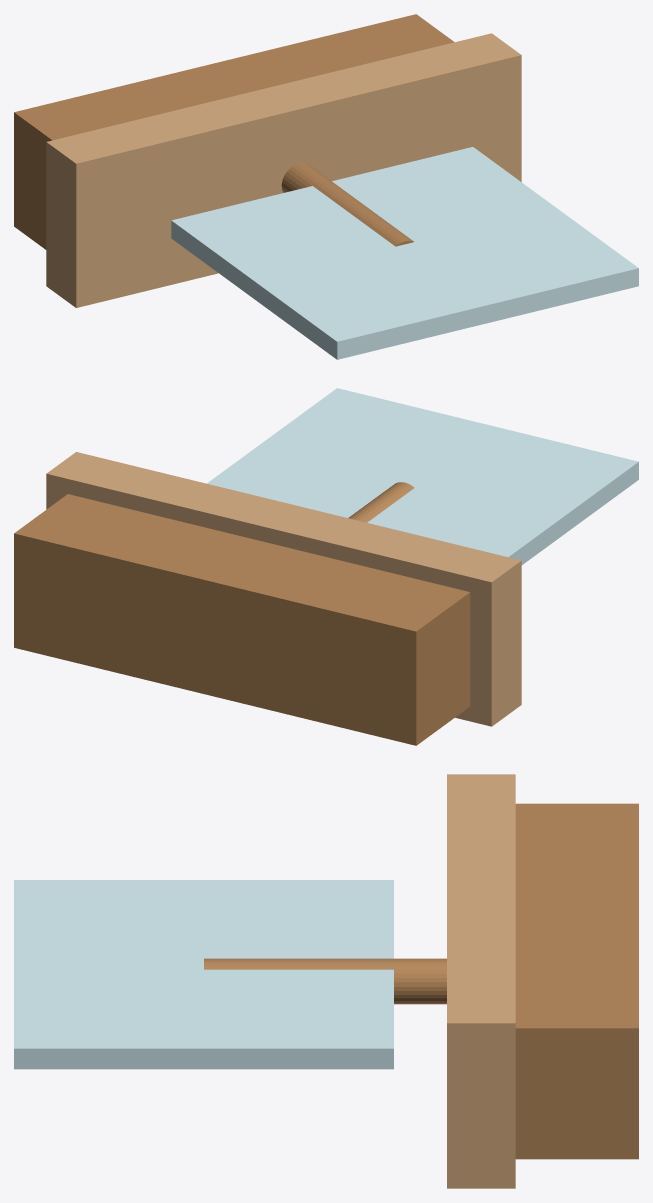
File: dressing-tables.glb
The picture shows the model from 3 angles, top to bottom: view 1: azimuth 30°, elevation 25°; view 2: azimuth 150°, elevation 25°; view 3: azimuth 270°, elevation 25°; orthographic projection. The views are drawn at different scales.
Parts seen in each view (by area): view 1: Console, Mirror, Drawer, MirrorBase; view 2: Drawer, Mirror, Console, MirrorBase; view 3: Mirror, Drawer, Console, MirrorBase.
Boxes of the visible parts, left/top/right/bottom form: Console: left=46, top=33, right=521, bottom=307; Mirror: left=171, top=147, right=638, bottom=359; Drawer: left=14, top=14, right=454, bottom=249; MirrorBase: left=281, top=163, right=413, bottom=246; Drawer: left=14, top=494, right=470, bottom=745; Mirror: left=207, top=388, right=638, bottom=565; Console: left=46, top=452, right=521, bottom=726; MirrorBase: left=348, top=482, right=414, bottom=522; Mirror: left=14, top=880, right=393, bottom=1069; Drawer: left=515, top=803, right=638, bottom=1159; Console: left=447, top=774, right=515, bottom=1188; MirrorBase: left=204, top=958, right=446, bottom=1004.
Bounding box in the file's own units: 1.55 × 0.48 × 1.65.
